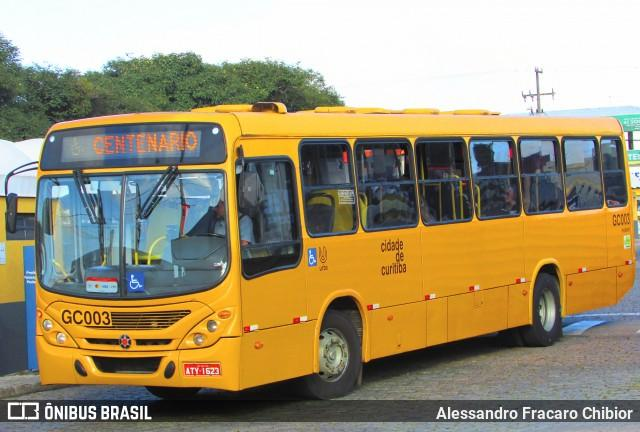CENTENARIO: (89, 128, 202, 160)
